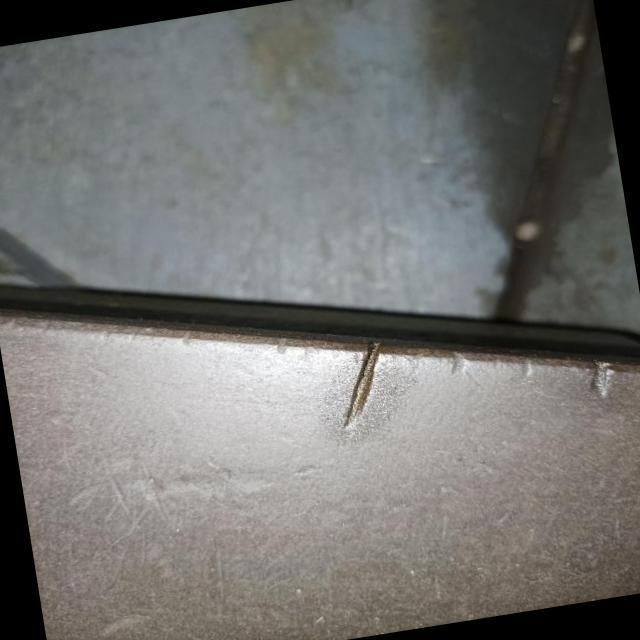defect: (343, 340, 383, 425)
